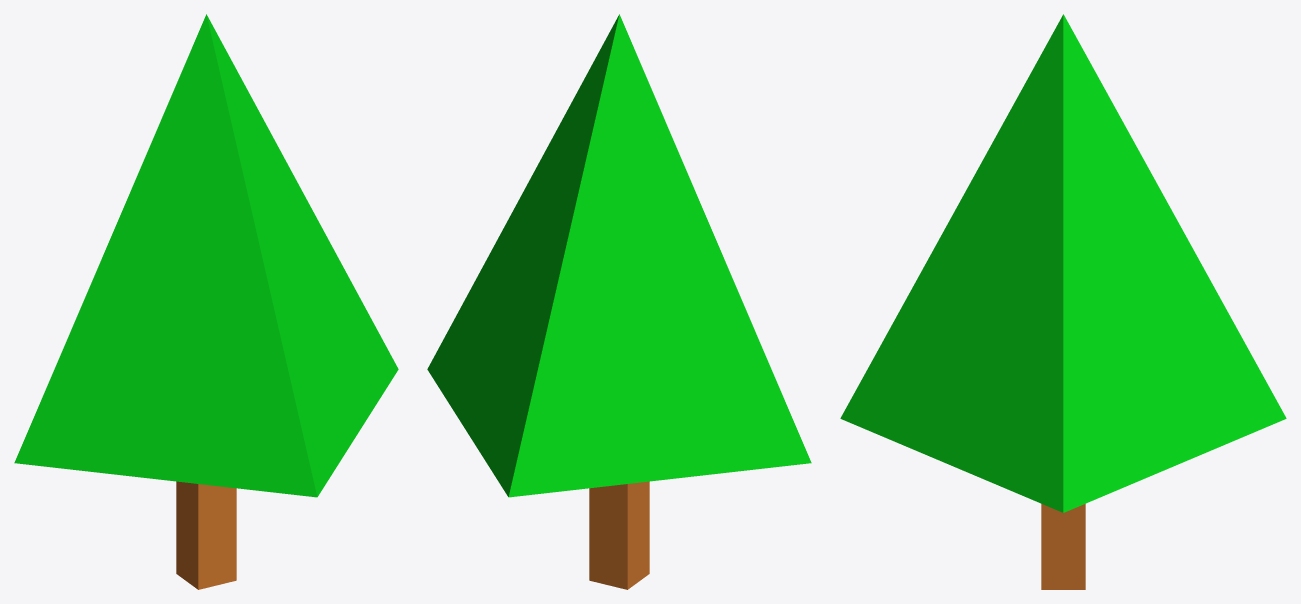
The model's file is tree_1.fbx.
3 views of the same model, side by side, from view 1: azimuth 30°, elevation 25°; view 2: azimuth 150°, elevation 25°; view 3: azimuth 270°, elevation 25° (orthographic).
Parts seen in each view (by area): view 1: Cube; view 2: Cube; view 3: Cube.
Part boxes in pixels (x1,y1,x2,y2): Cube: (14, 14, 398, 589); Cube: (427, 14, 811, 589); Cube: (840, 14, 1286, 589).
Bounding box in the file's own units: 400 × 560 × 400.
